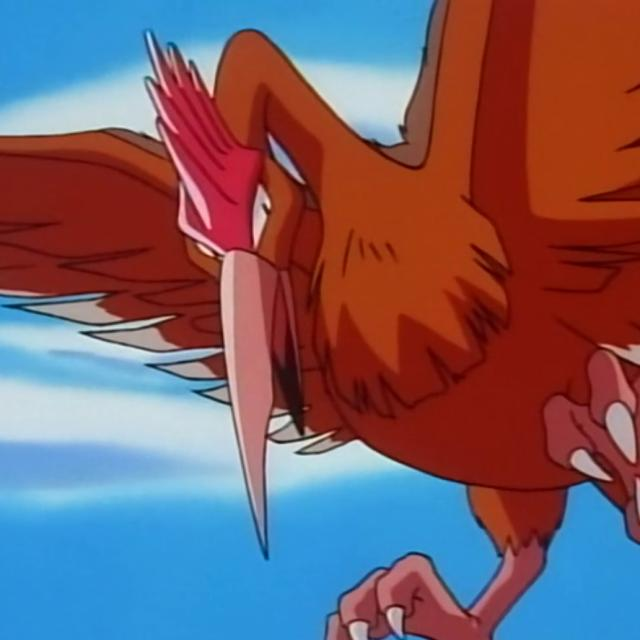Fearow: (135, 37, 622, 527)
